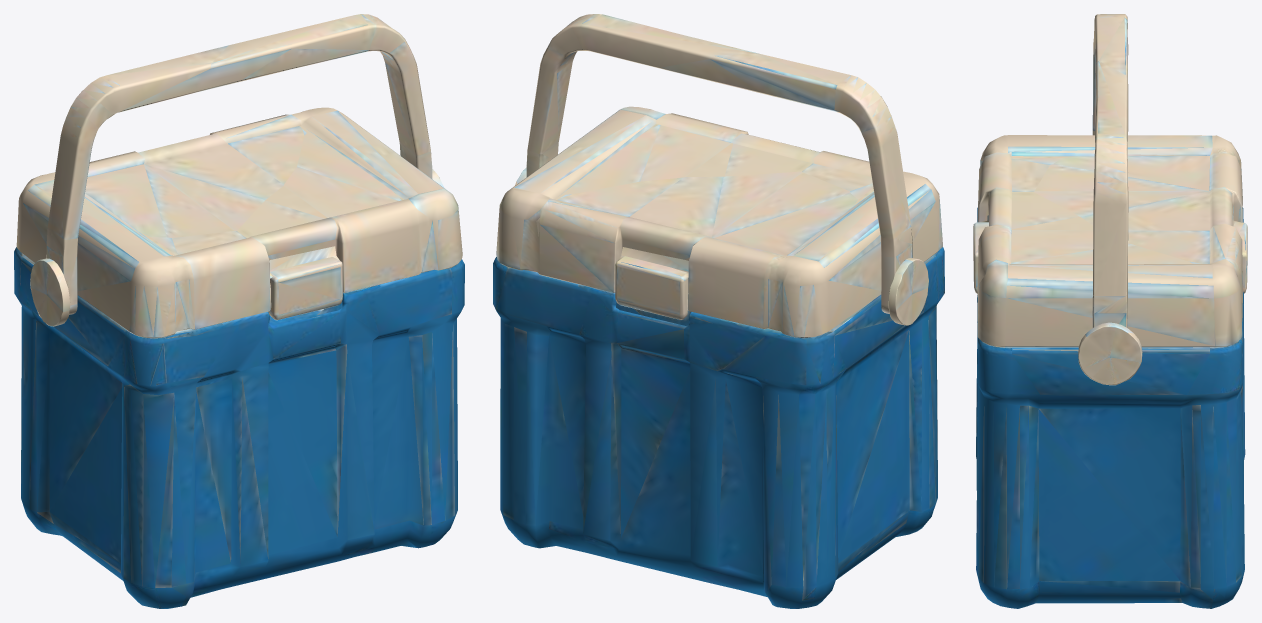
The model's file is cooler.glb.
3 views of the same model, side by side, from view 1: azimuth 30°, elevation 25°; view 2: azimuth 150°, elevation 25°; view 3: azimuth 270°, elevation 25° (orthographic). The views are drawn at different scales.
Bounding box in the file's own units: 0.8356 × 1 × 0.533.
Materials: 1 (1 with a texture image).
